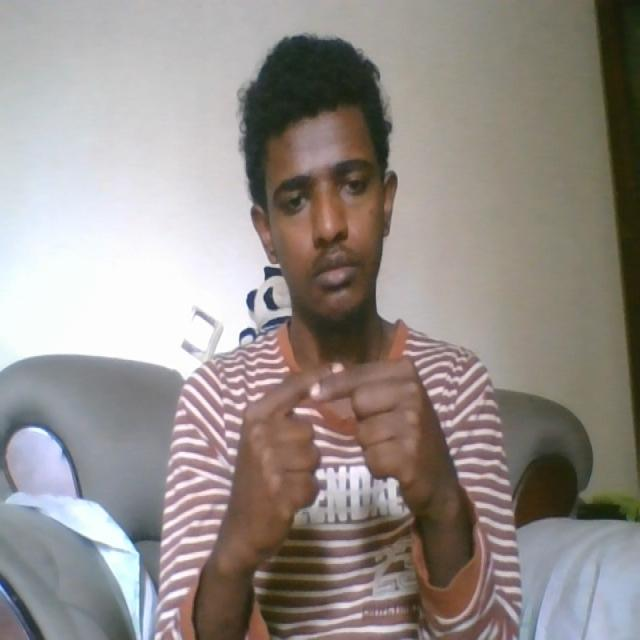eske: (237, 358, 422, 509)
